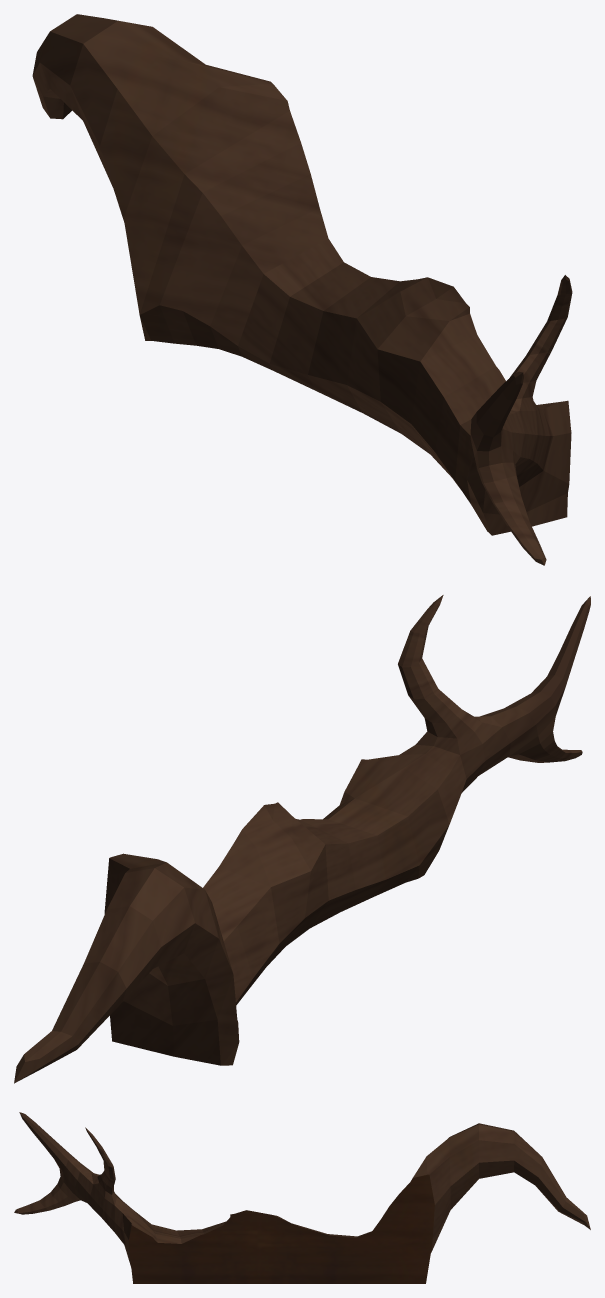
Rendered from F_Tree_Walk_1_back.fbx.
3 renders of one model, top to bottom at view 1: azimuth 30°, elevation 25°; view 2: azimuth 150°, elevation 25°; view 3: azimuth 270°, elevation 25°, orthographic. The views are drawn at different scales.
Parts seen in each view (by area): view 1: F_Tree_Walk_1_back; view 2: F_Tree_Walk_1_back; view 3: F_Tree_Walk_1_back.
Part boxes in pixels (<box>): F_Tree_Walk_1_back: <box>32,14,572,565</box>; F_Tree_Walk_1_back: <box>14,595,590,1083</box>; F_Tree_Walk_1_back: <box>14,1112,590,1283</box>.
Size of the model in its own units: 16.13 by 4.47 by 2.69.
Materials: 1 (1 with a texture image).
